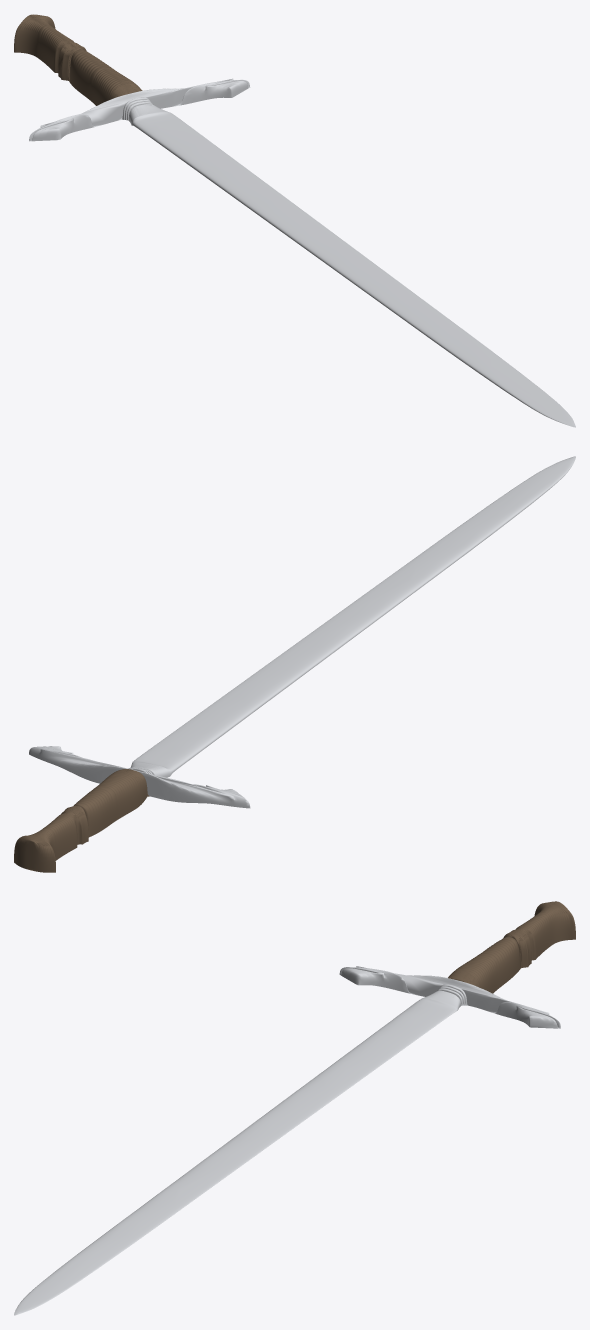
Rendered from greatsword.glb.
The picture shows the model from 3 angles, top to bottom: view 1: azimuth 30°, elevation 25°; view 2: azimuth 150°, elevation 25°; view 3: azimuth 330°, elevation 25°; orthographic projection.
Parts seen in each view (by area): view 1: Greatsword; view 2: Greatsword; view 3: Greatsword.
Boxes of the visible parts, x1,y1,x2,y2 form: Greatsword: [14, 14, 575, 427]; Greatsword: [14, 456, 575, 872]; Greatsword: [14, 901, 575, 1315].
Bounding box in the file's own units: 0.3335 × 0.0433 × 1.42.
